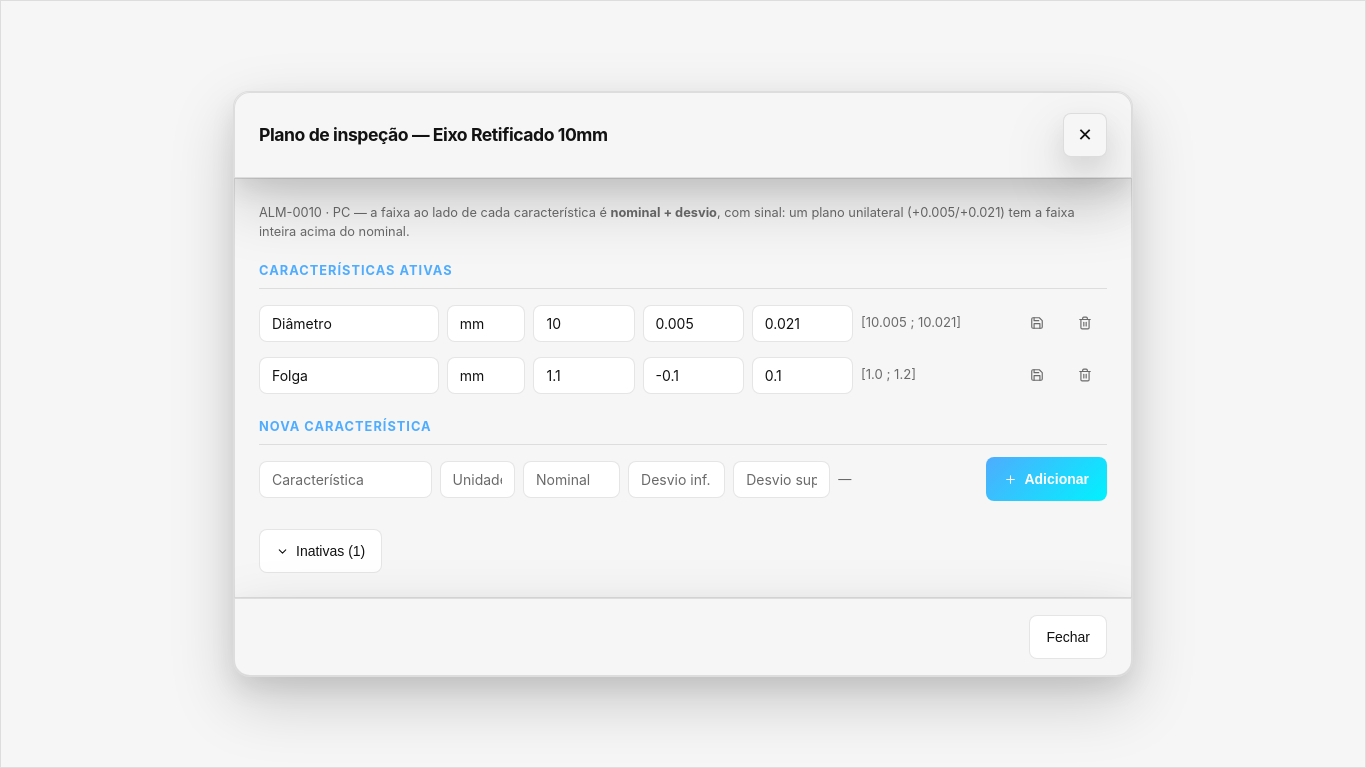
Scenario: PlanoInspecaoModal — leitura do plano (RN-02, RN-07, RN-08) › (1) abre com ?todos=1 e lista ativas e inativas SEPARADAS, cada uma com a faixa somada COM SINAL
Expected: the element with test id "plano-ativas" does not show "Rugosidade"
Step 1. Click the button with test id "plano-inativas-toggle" → [321, 551], box [259,529,382,573]
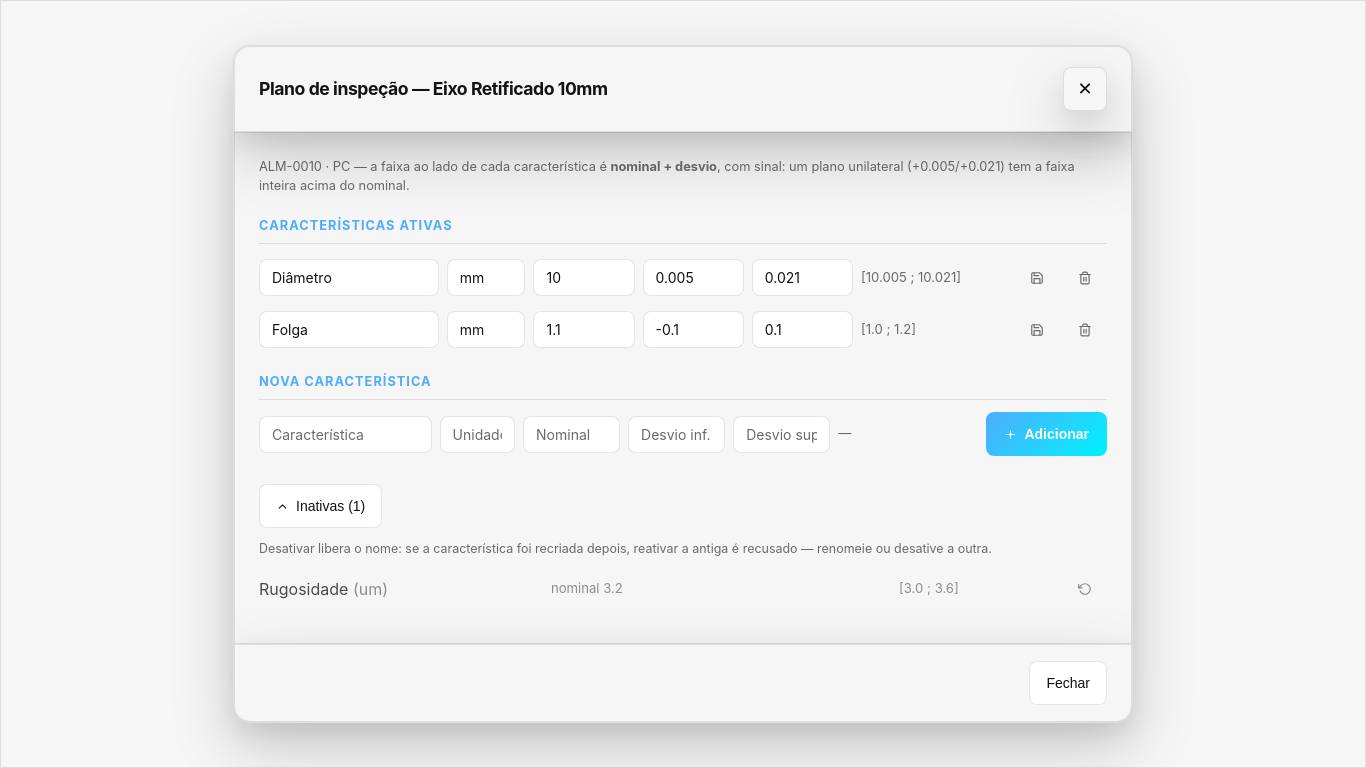
Expected: the element with class "almox-plano-linha" shows "Rugosidade", [259,579,348,599]
Expected: the button named "Reativar" is shown, [1063,567,1107,611]
